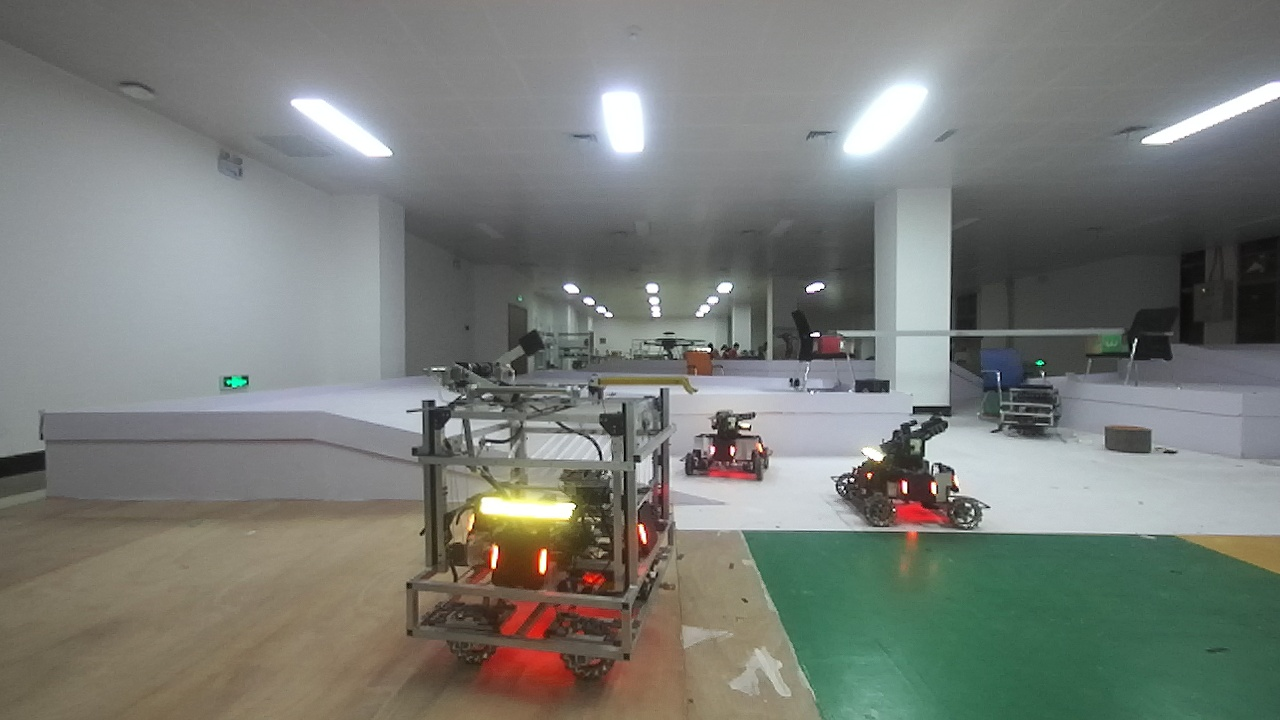car: (411, 369, 670, 685), (832, 416, 988, 533), (686, 408, 774, 483)
